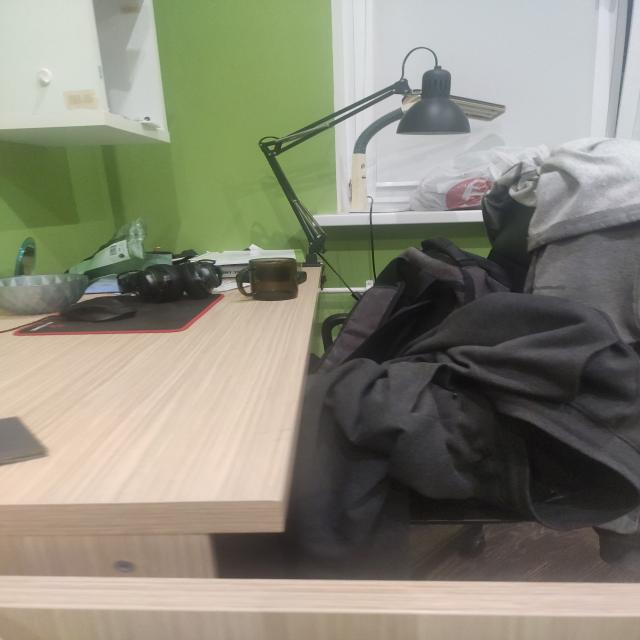cups: (236, 257, 306, 301)
